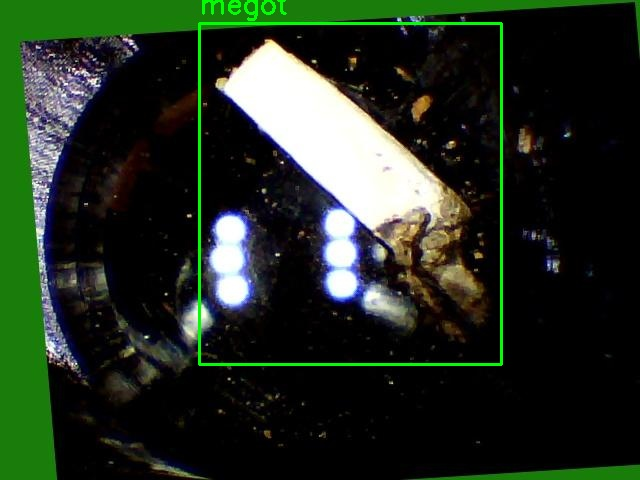megot: (199, 23, 501, 364)
